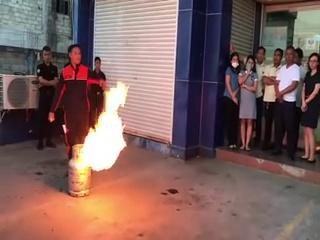Fire: (82, 81, 142, 170)
